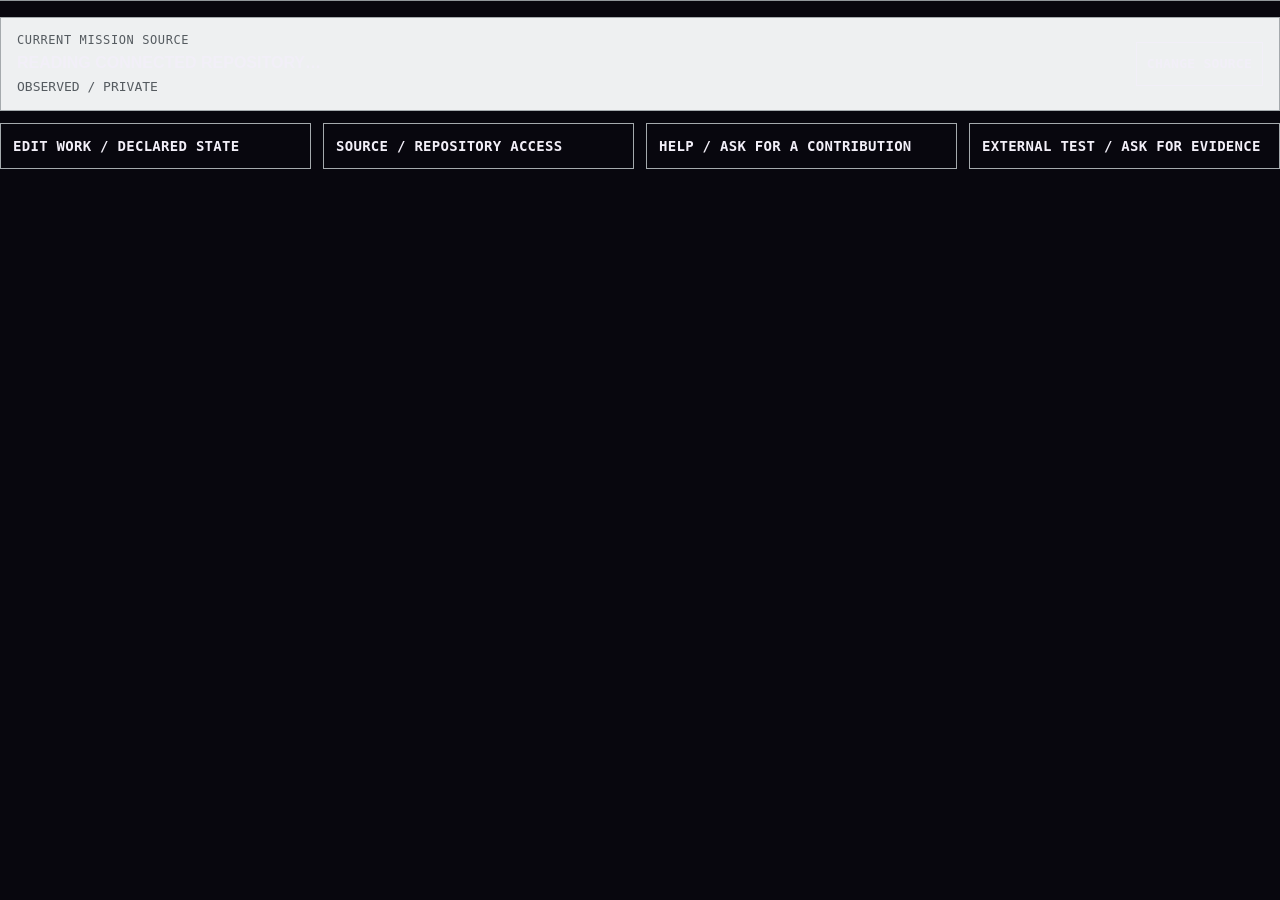
it: CommandActions journey mutations › keeps repository authorization outside the mission edit boundary when the source is already connected
This screenshot has width=1280, height=900.
Step 1. Click the heading "SOURCE / REPOSITORY ACCESS" → coordinates (449, 146), box [336,138,562,154]
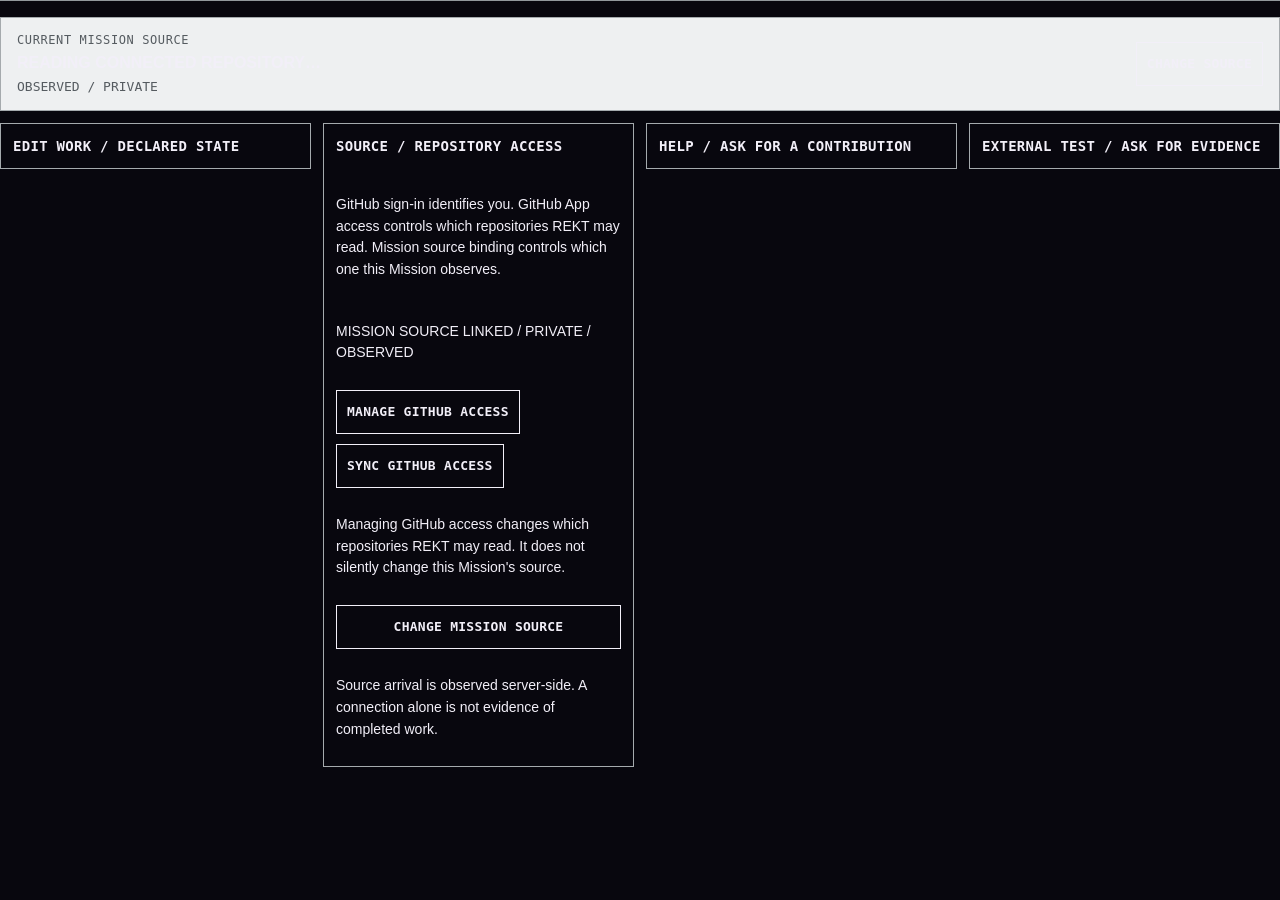
Expected: the text "MISSION SOURCE LINKED / PRIVATE / OBSERVED" is shown, [336,321,621,364]
Expected: the button "MANAGE GITHUB ACCESS" is shown, [336,390,520,434]
Expected: the button "CHANGE MISSION SOURCE" is shown, [336,605,621,649]
